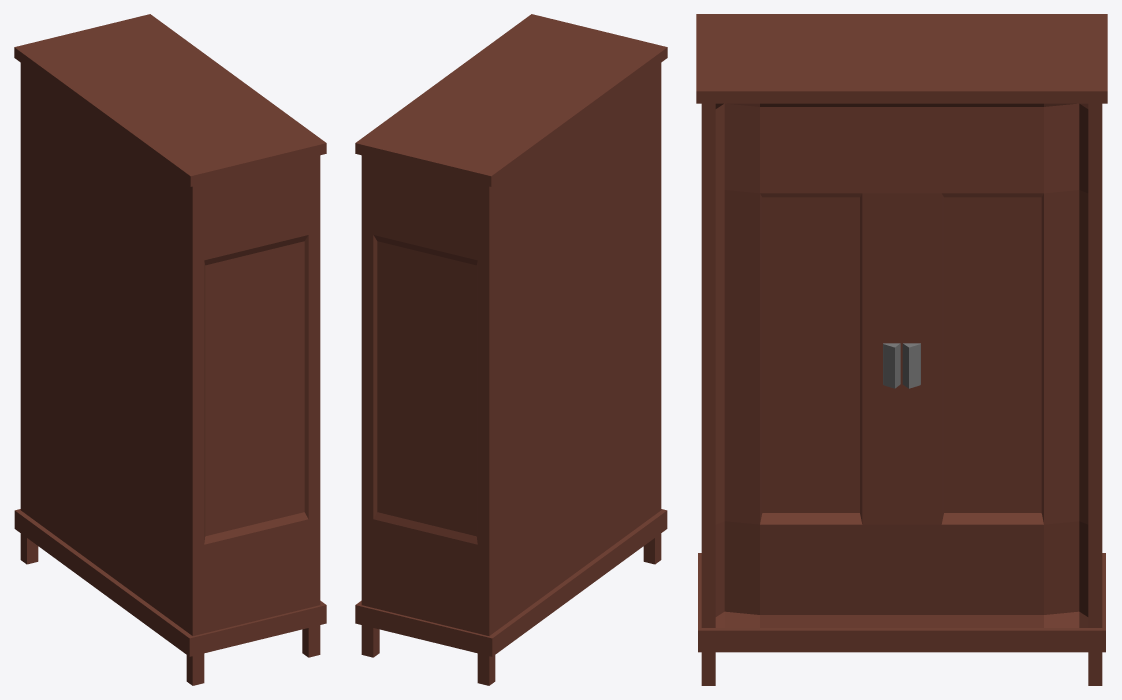
File: Wardrobe.fbx
The picture shows the model from 3 angles, left to right: view 1: azimuth 30°, elevation 25°; view 2: azimuth 150°, elevation 25°; view 3: azimuth 270°, elevation 25°; orthographic projection. The views are drawn at different scales.
Parts seen in each view (by area): view 1: Cube; view 2: Cube; view 3: Cube.
Boxes of the visible parts, left/top/right/bottom form: Cube: left=14, top=14, right=326, bottom=685; Cube: left=355, top=14, right=667, bottom=685; Cube: left=696, top=14, right=1107, bottom=685.
Bounding box in the file's own units: 93.15 × 326 × 203.
